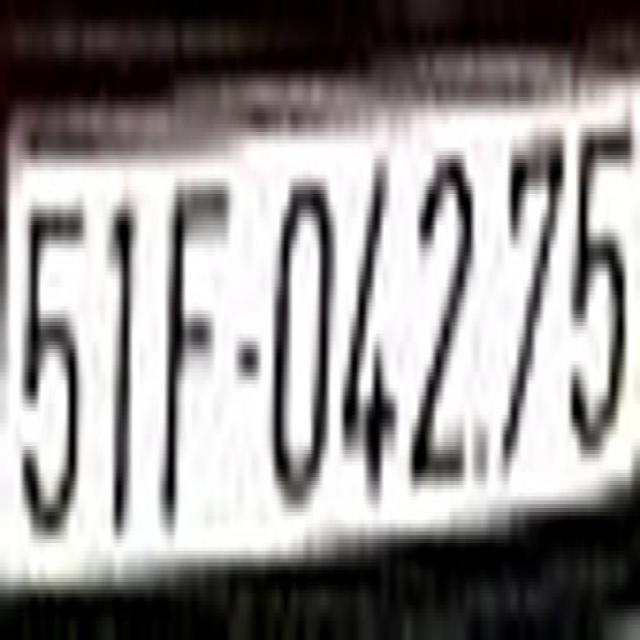0: (272, 167, 331, 520)
1: (102, 194, 134, 532)
2: (408, 159, 476, 504)
4: (339, 159, 402, 493)
5: (570, 124, 638, 473), (18, 190, 81, 535)
7: (499, 132, 564, 477)
F: (160, 162, 227, 536)
